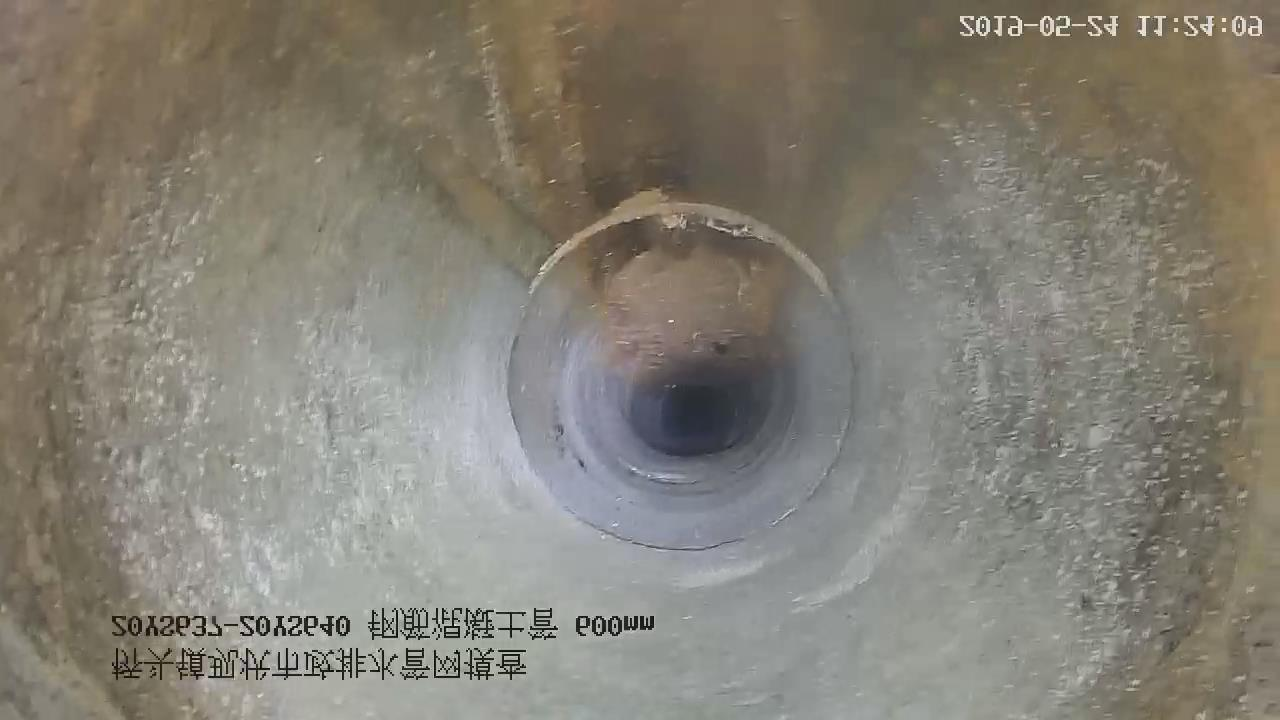CJ: (586, 217, 791, 388)
CKTJ: (499, 197, 861, 557)
